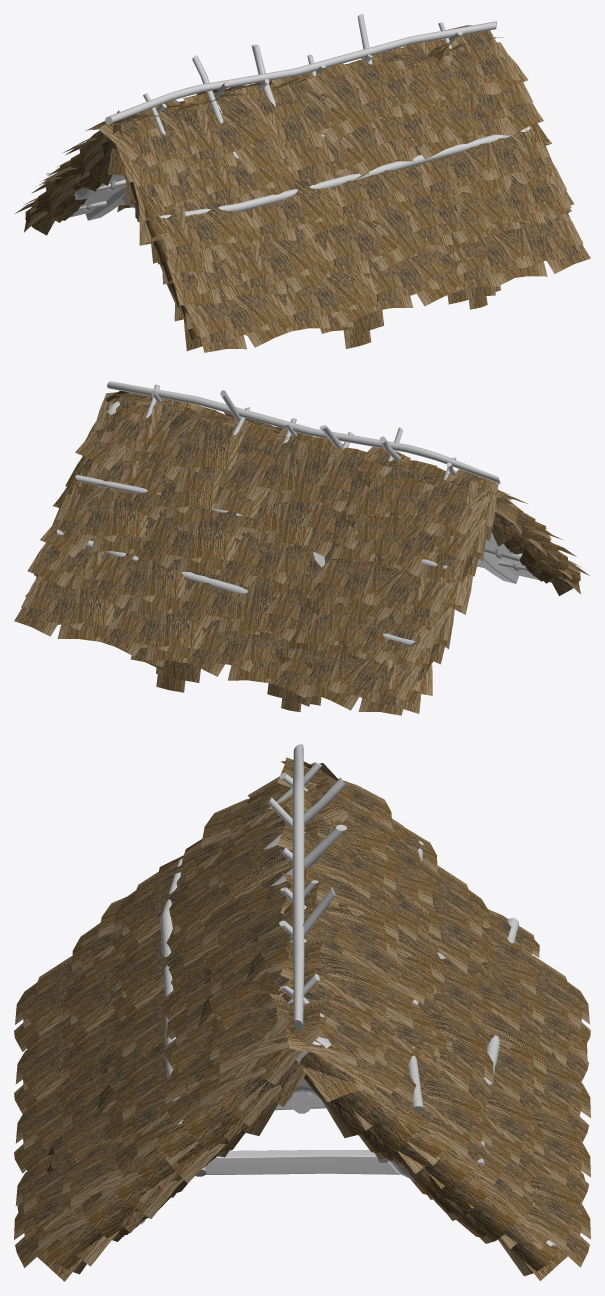
File: SM_roofFull8m_a1.fbx
3 renders of one model, top to bottom at view 1: azimuth 30°, elevation 25°; view 2: azimuth 150°, elevation 25°; view 3: azimuth 270°, elevation 25°, orthographic. The views are drawn at different scales.
Visible parts, largest first — view 1: SM_roofFull8m_a1_LOD0; view 2: SM_roofFull8m_a1_LOD0; view 3: SM_roofFull8m_a1_LOD0.
Boxes of the visible parts, box(x1,y1,x2,y2) form: SM_roofFull8m_a1_LOD0: box(15, 14, 590, 352); SM_roofFull8m_a1_LOD0: box(14, 381, 589, 715); SM_roofFull8m_a1_LOD0: box(14, 744, 590, 1281).
Size of the model in its own units: 922 by 765 by 493.
4 materials, 1 textured.
